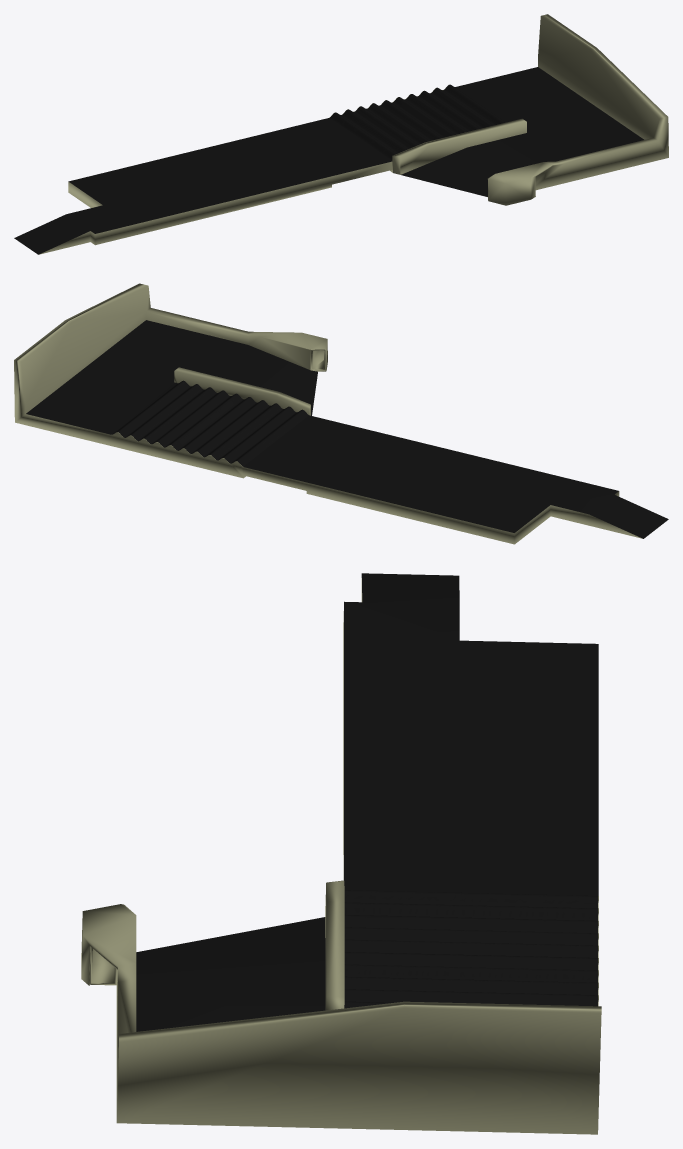
3 views of the same model, one above another, from view 1: azimuth 30°, elevation 25°; view 2: azimuth 150°, elevation 25°; view 3: azimuth 270°, elevation 25° (orthographic). The views are drawn at different scales.
Visible parts, largest first — view 1: node; view 2: node; view 3: node.
Part boxes in pixels (x1,y1,x2,y2): node: (14,14,668,254); node: (14,283,668,544); node: (81,573,601,1134).
Bounding box in the file's own units: 10.79 × 4.27 × 1.14.
